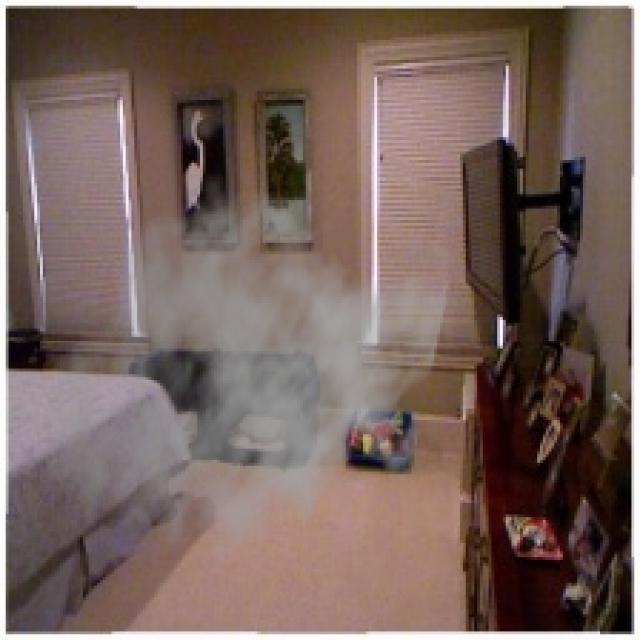Smoke: (37, 168, 452, 588)
